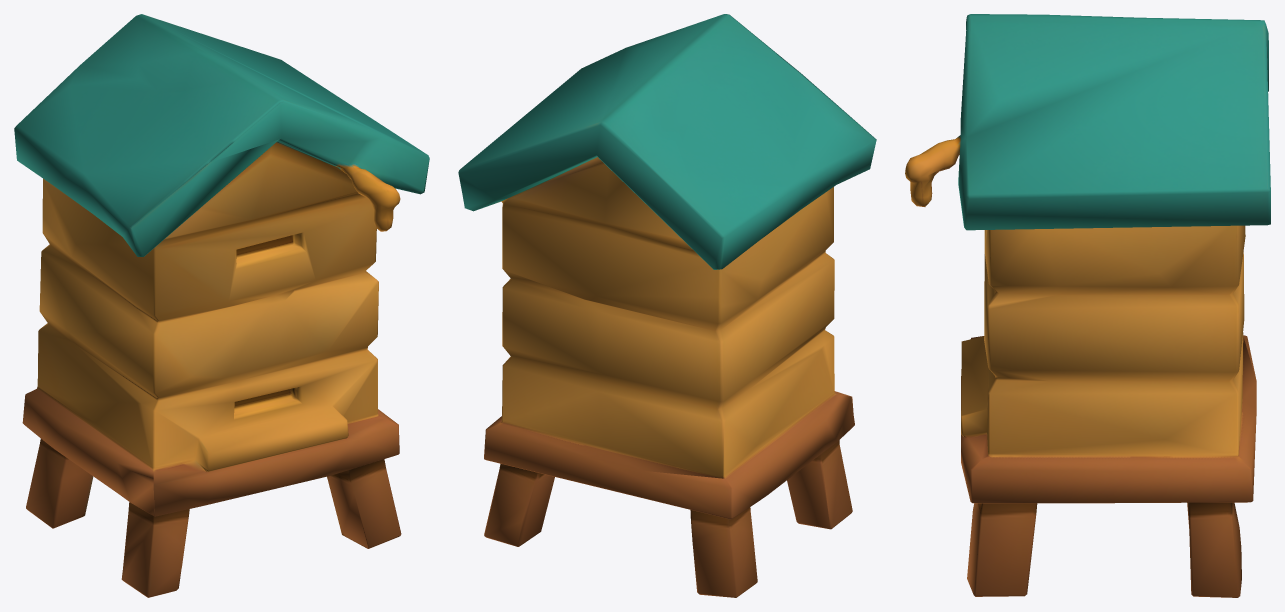
Rendered from kovan.glb.
The picture shows the model from 3 angles, left to right: view 1: azimuth 30°, elevation 25°; view 2: azimuth 150°, elevation 25°; view 3: azimuth 270°, elevation 25°; orthographic projection. The views are drawn at different scales.
Parts seen in each view (by area): view 1: material; view 2: material; view 3: material.
Boxes of the visible parts, bbox=[...] form: material: bbox=[14, 14, 429, 597]; material: bbox=[458, 14, 876, 597]; material: bbox=[905, 14, 1270, 597].
Bounding box in the file's own units: 1.26 × 1.9 × 1.21.
Materials: 1 (1 with a texture image).
